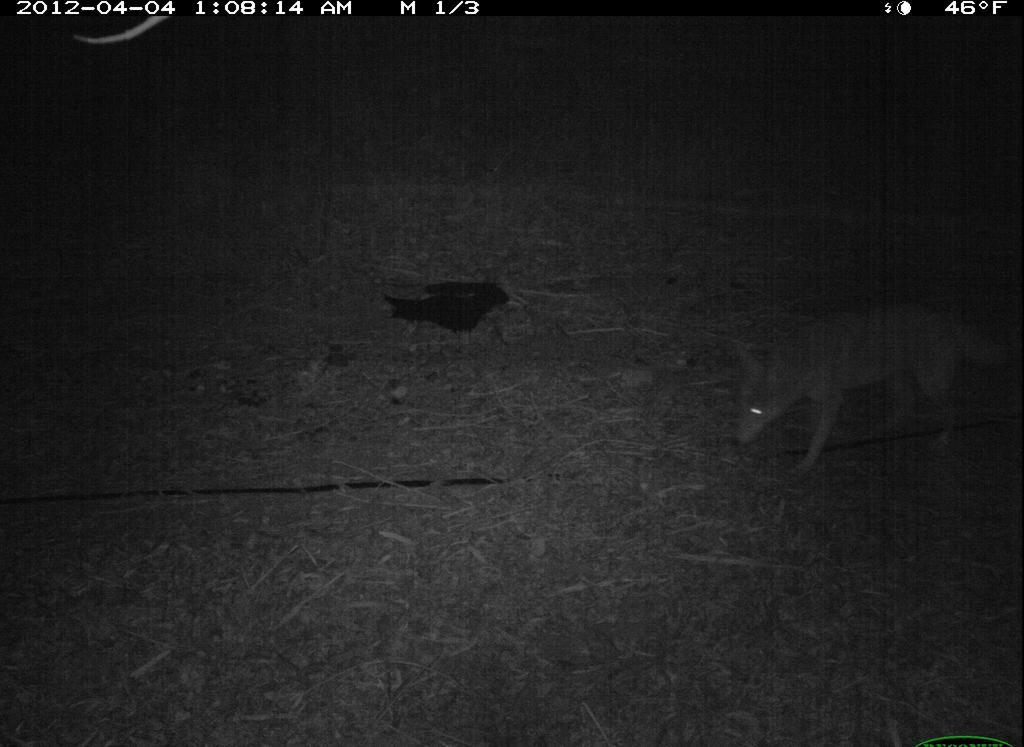coyote: (711, 285, 1022, 502)
